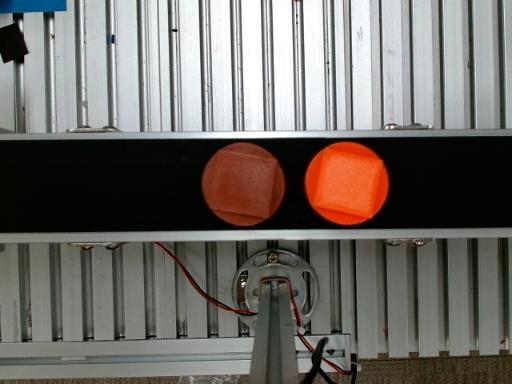Square: (313, 147, 385, 218), (209, 149, 277, 219)
